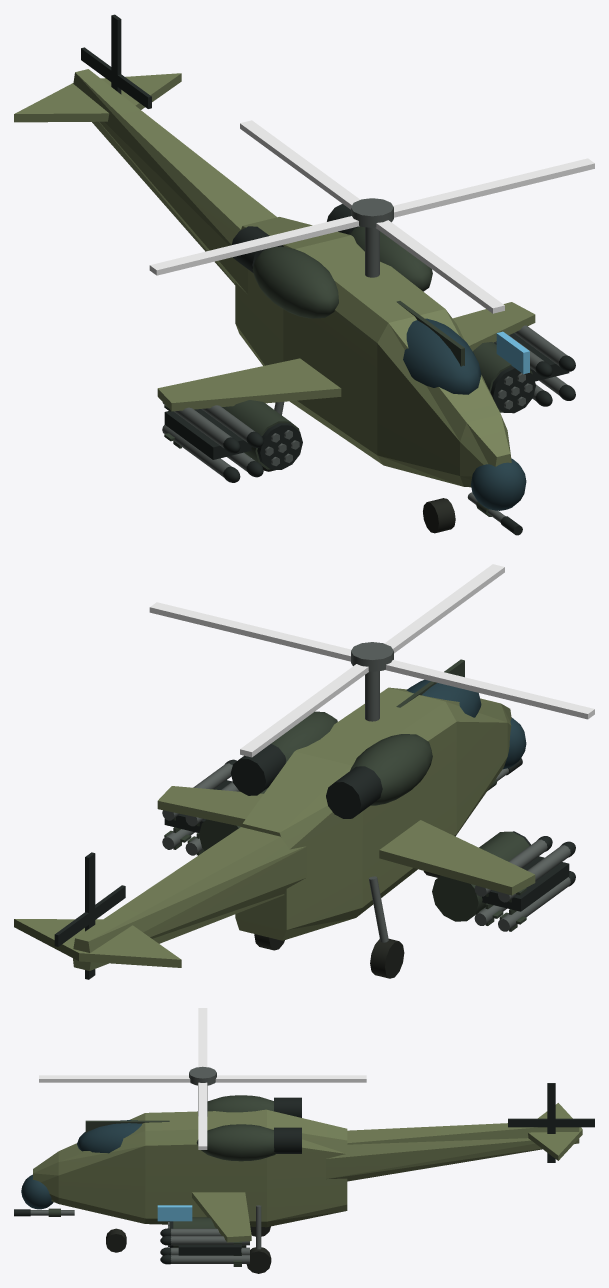
The model's file is gunship.glb.
3 views of the same model, one above another, from view 1: azimuth 30°, elevation 25°; view 2: azimuth 150°, elevation 25°; view 3: azimuth 270°, elevation 25° (orthographic). The views are drawn at different scales.
Visible parts, largest first — view 1: armor, equipment (×6), glass, marking; view 2: armor, equipment (×6), glass; view 3: armor, equipment (×6), glass, marking.
Boxes of the visible parts, left/top/right/bottom form: armor: left=14, top=69, right=535, bottom=487; equipment (×6): left=81, top=14, right=594, bottom=533; glass: left=403, top=318, right=526, bottom=510; marking: left=496, top=331, right=529, bottom=374; armor: left=14, top=687, right=535, bottom=970; equipment (×6): left=54, top=564, right=594, bottom=979; glass: left=406, top=676, right=526, bottom=769; armor: left=33, top=1103, right=582, bottom=1242; equipment (×6): left=14, top=1008, right=594, bottom=1273; glass: left=21, top=1120, right=141, bottom=1209; marking: left=157, top=1205, right=192, bottom=1221.
Size of the model in its own units: 4.7 by 2.86 by 8.34.
